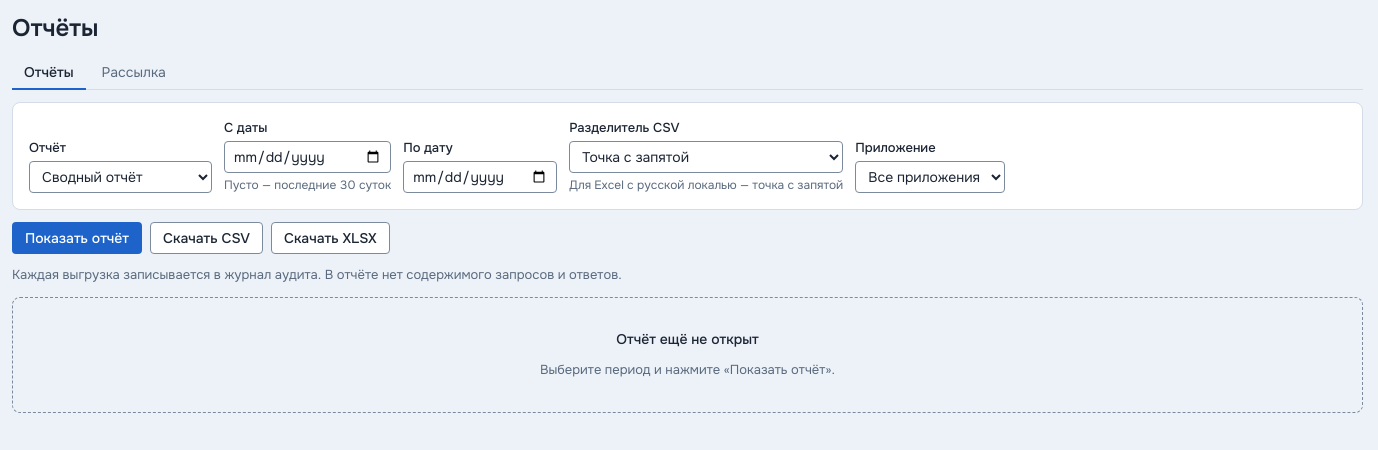
Scenario: экран «Отчёты» › без дат — последние 30 суток; одна дата без другой блокирует выгрузку
Type "2026-10-01" into the date field labelled "С даты" at (308, 157), box x1=224 y1=141 x2=391 y2=173
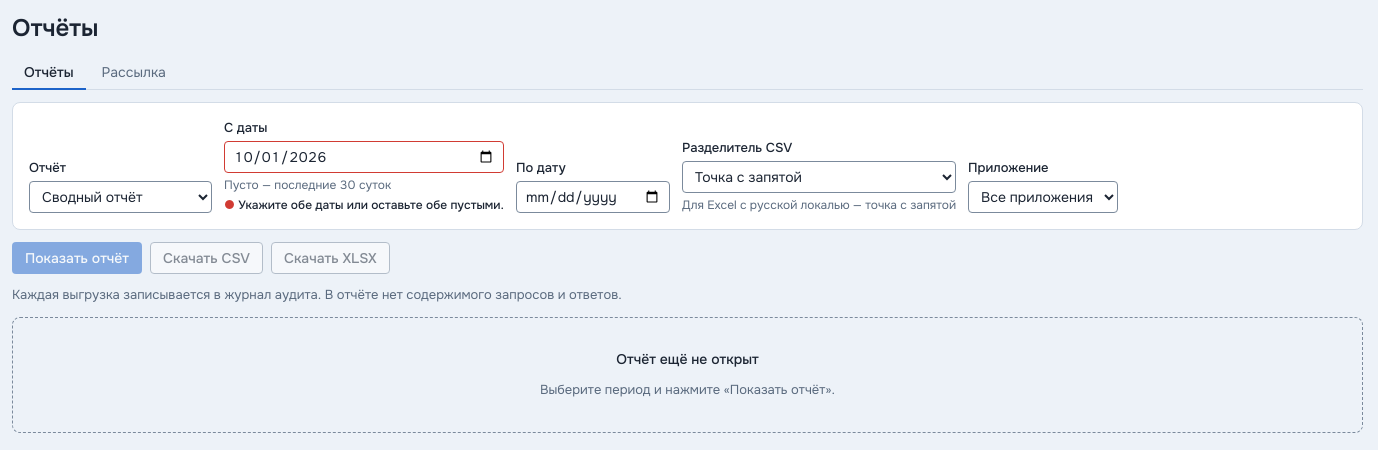
Now the text "Укажите обе даты или оставьте обе пустыми." is shown, box x1=238 y1=197 x2=504 y2=213
